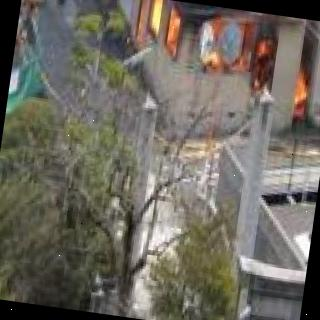fire: (94, 0, 320, 117)
